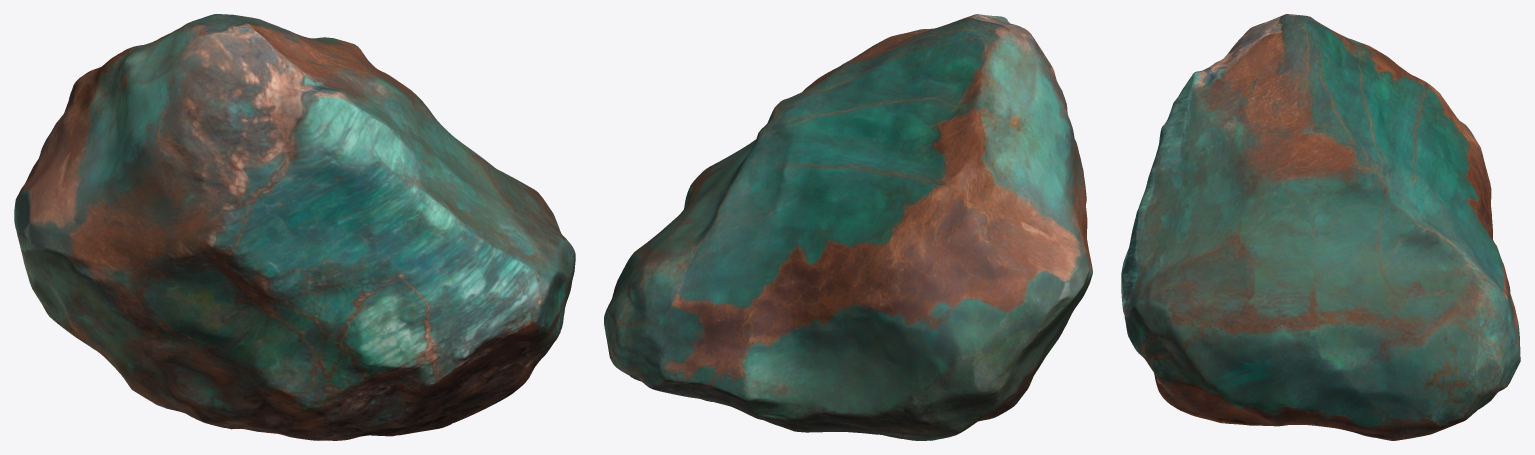
The model's file is AI_CopperOre.fbx.
3 renders of one model, left to right at view 1: azimuth 30°, elevation 25°; view 2: azimuth 150°, elevation 25°; view 3: azimuth 270°, elevation 25°, orthographic. The views are drawn at different scales.
Visible parts, largest first — view 1: Mesh1.0; view 2: Mesh1.0; view 3: Mesh1.0.
Boxes of the visible parts, x1,y1,x2,y2 form: Mesh1.0: (14, 14, 575, 440); Mesh1.0: (604, 14, 1092, 440); Mesh1.0: (1121, 14, 1520, 440).
Bounding box in the file's own units: 199 × 167 × 188.
Materials: 1 (1 with a texture image).
